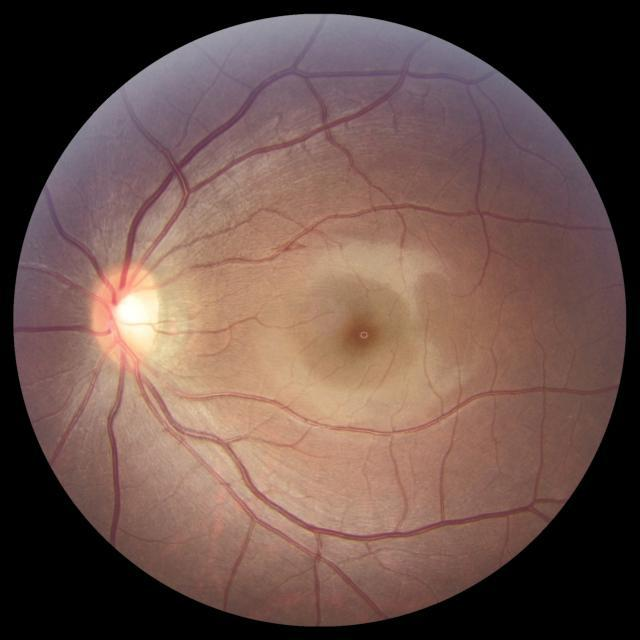OC: (105, 288, 152, 340)
OD: (92, 264, 162, 364)
